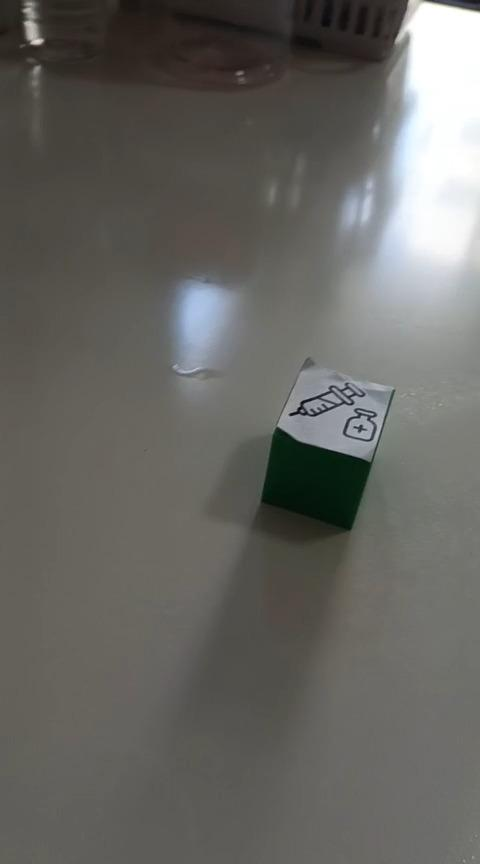antiseptic cream: (258, 355, 396, 531)
